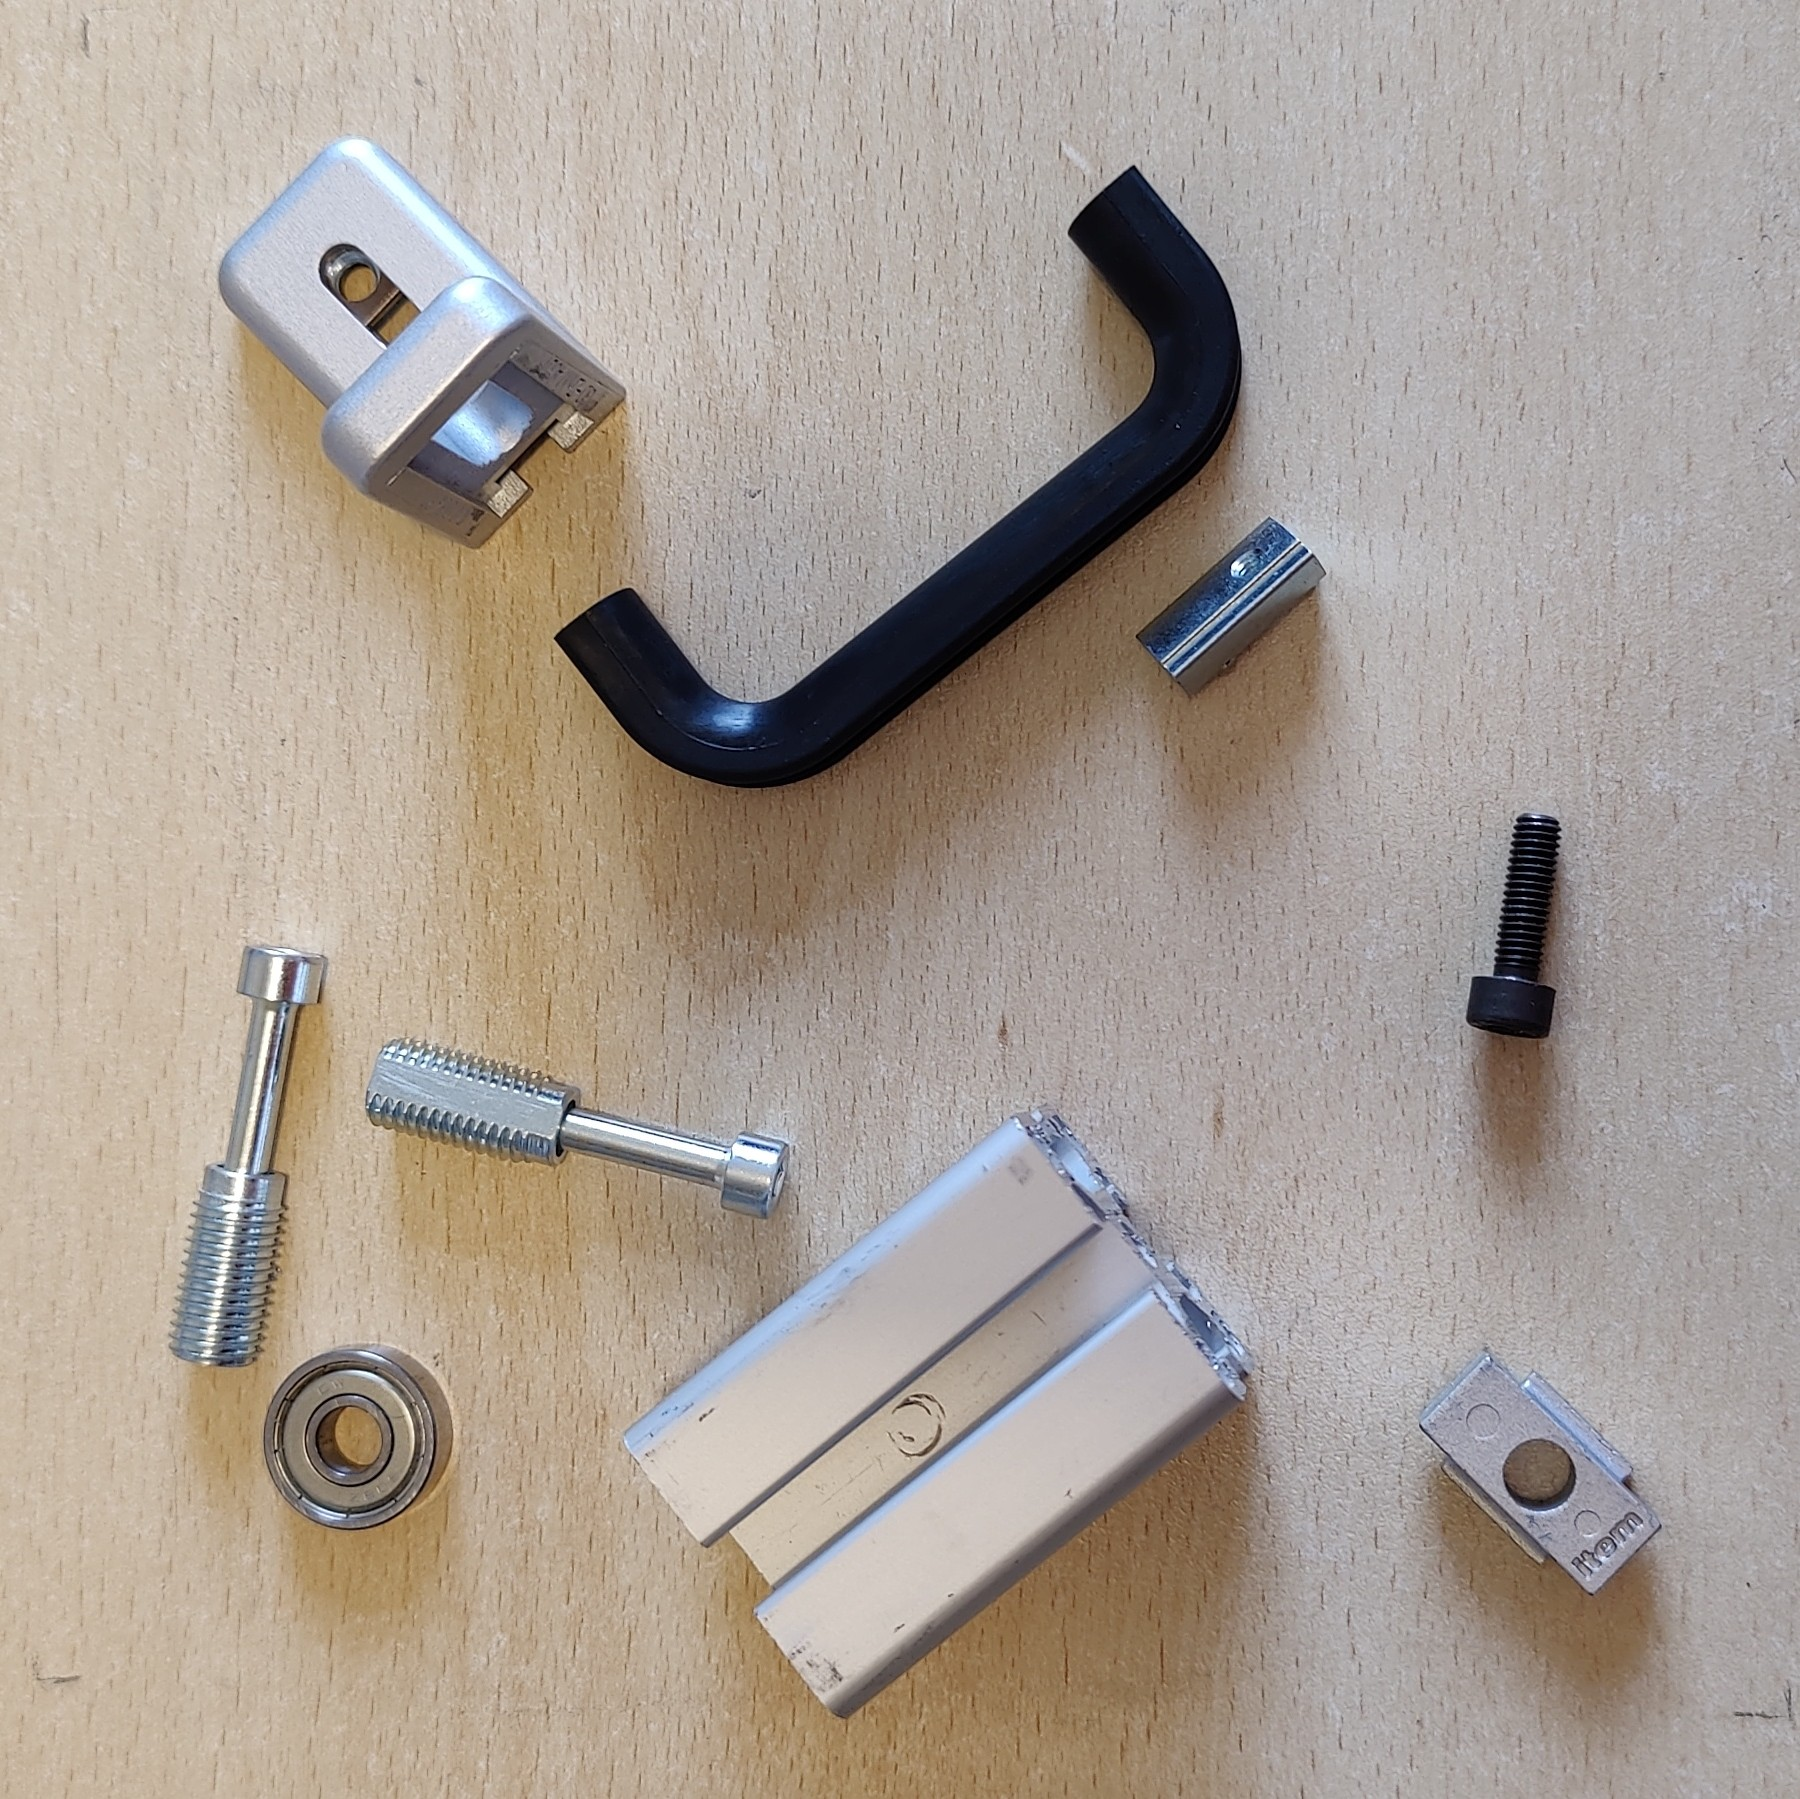Aluminium Extension: (619, 1104, 1258, 1722)
Ball Bearing: (260, 1343, 455, 1534)
Multiwinkel: (217, 133, 629, 552)
Pull Handle: (550, 163, 1247, 792)
Shoulder Socket Head Cap Screw: (361, 1036, 794, 1222), (163, 942, 328, 1371)
Socket Head Cap Screw: (1462, 811, 1563, 1040)
T Nut Square: (1416, 1344, 1663, 1600)
T Spring Nut: (1133, 514, 1329, 700)
